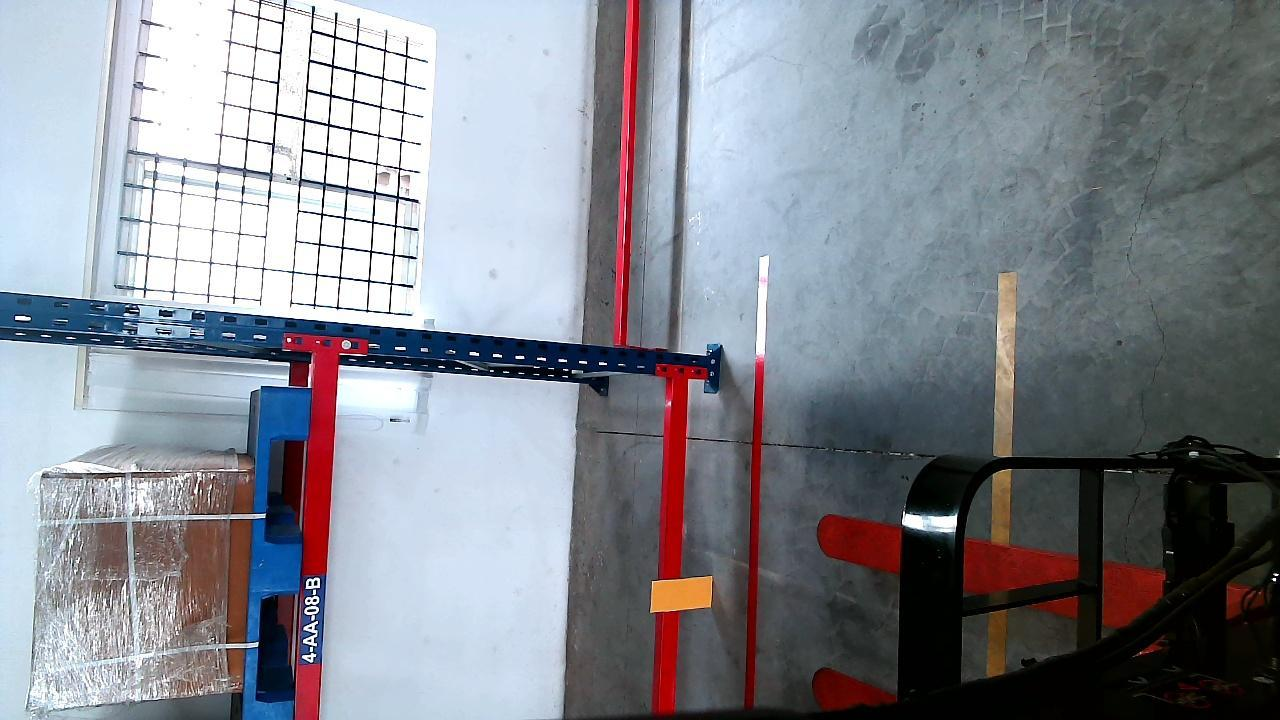red_line: (746, 254, 769, 716)
yellow_line: (990, 270, 1016, 631)
